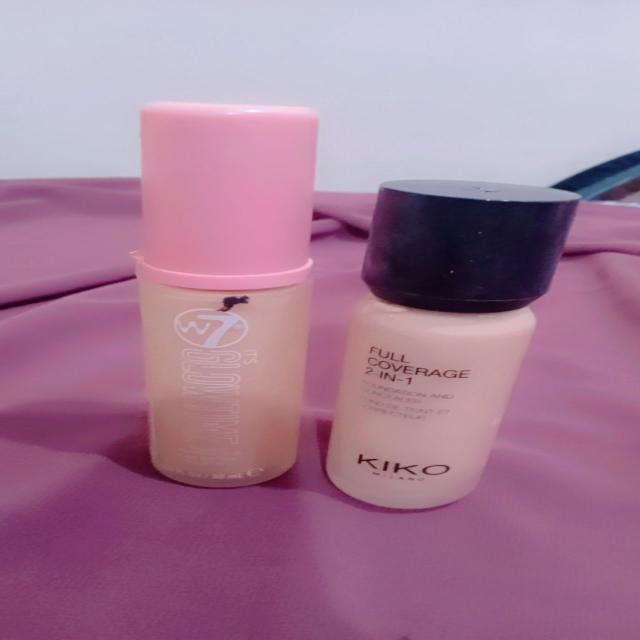foundation: (315, 169, 583, 509), (114, 92, 336, 496)
